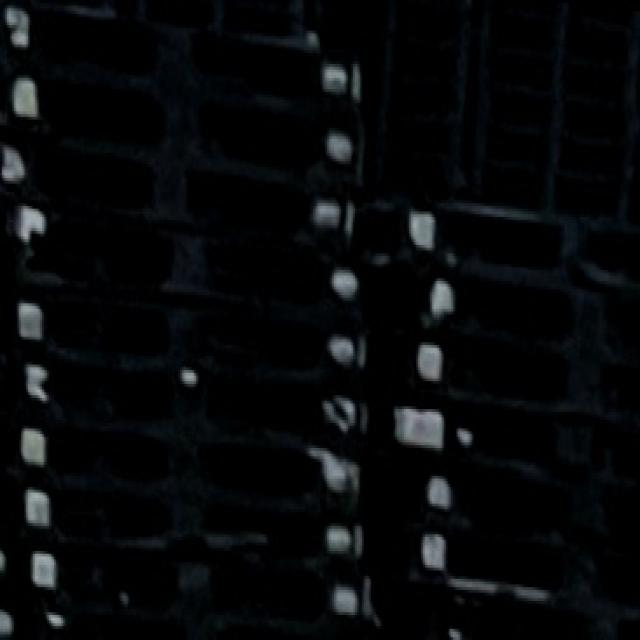igps: (0, 0, 390, 634)
